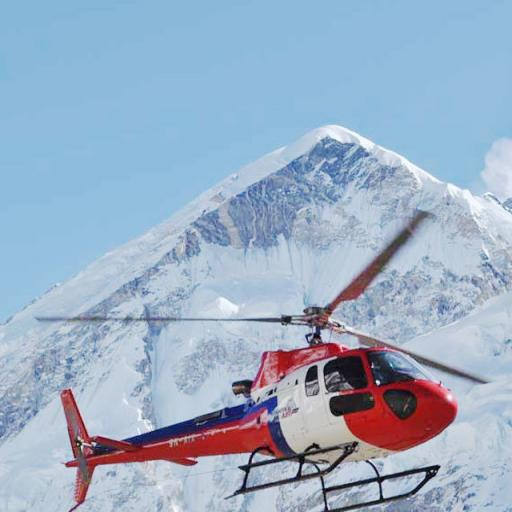helicopter: (41, 211, 490, 512)
